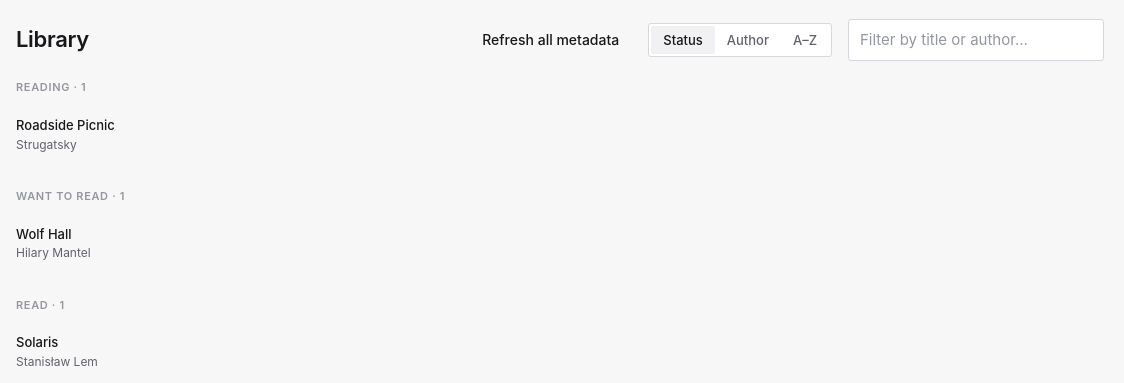
Test: filtering inside a grouping › says so when nothing matches
The width and height of the screenshot is (1124, 383).
In the field named "Filter library": (976, 40) [848,19,1104,61], type "zzz"
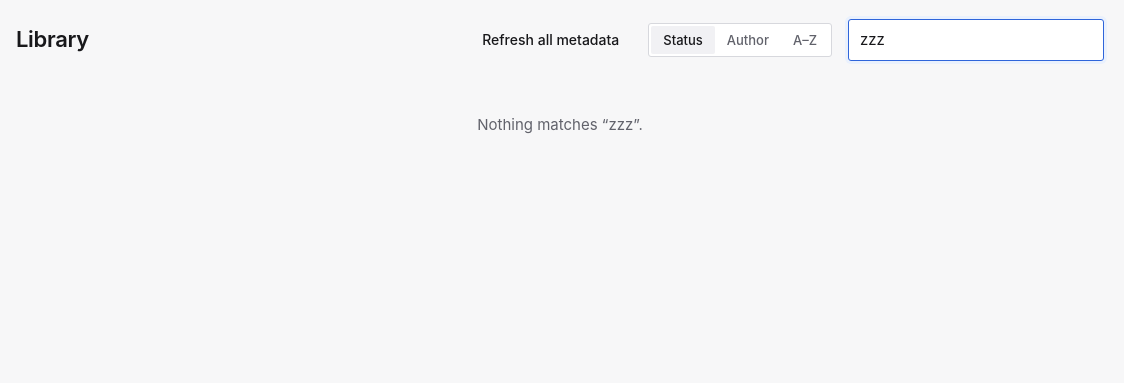
Now the text "Nothing matches “zzz”." is shown, box [477,115,643,134]
